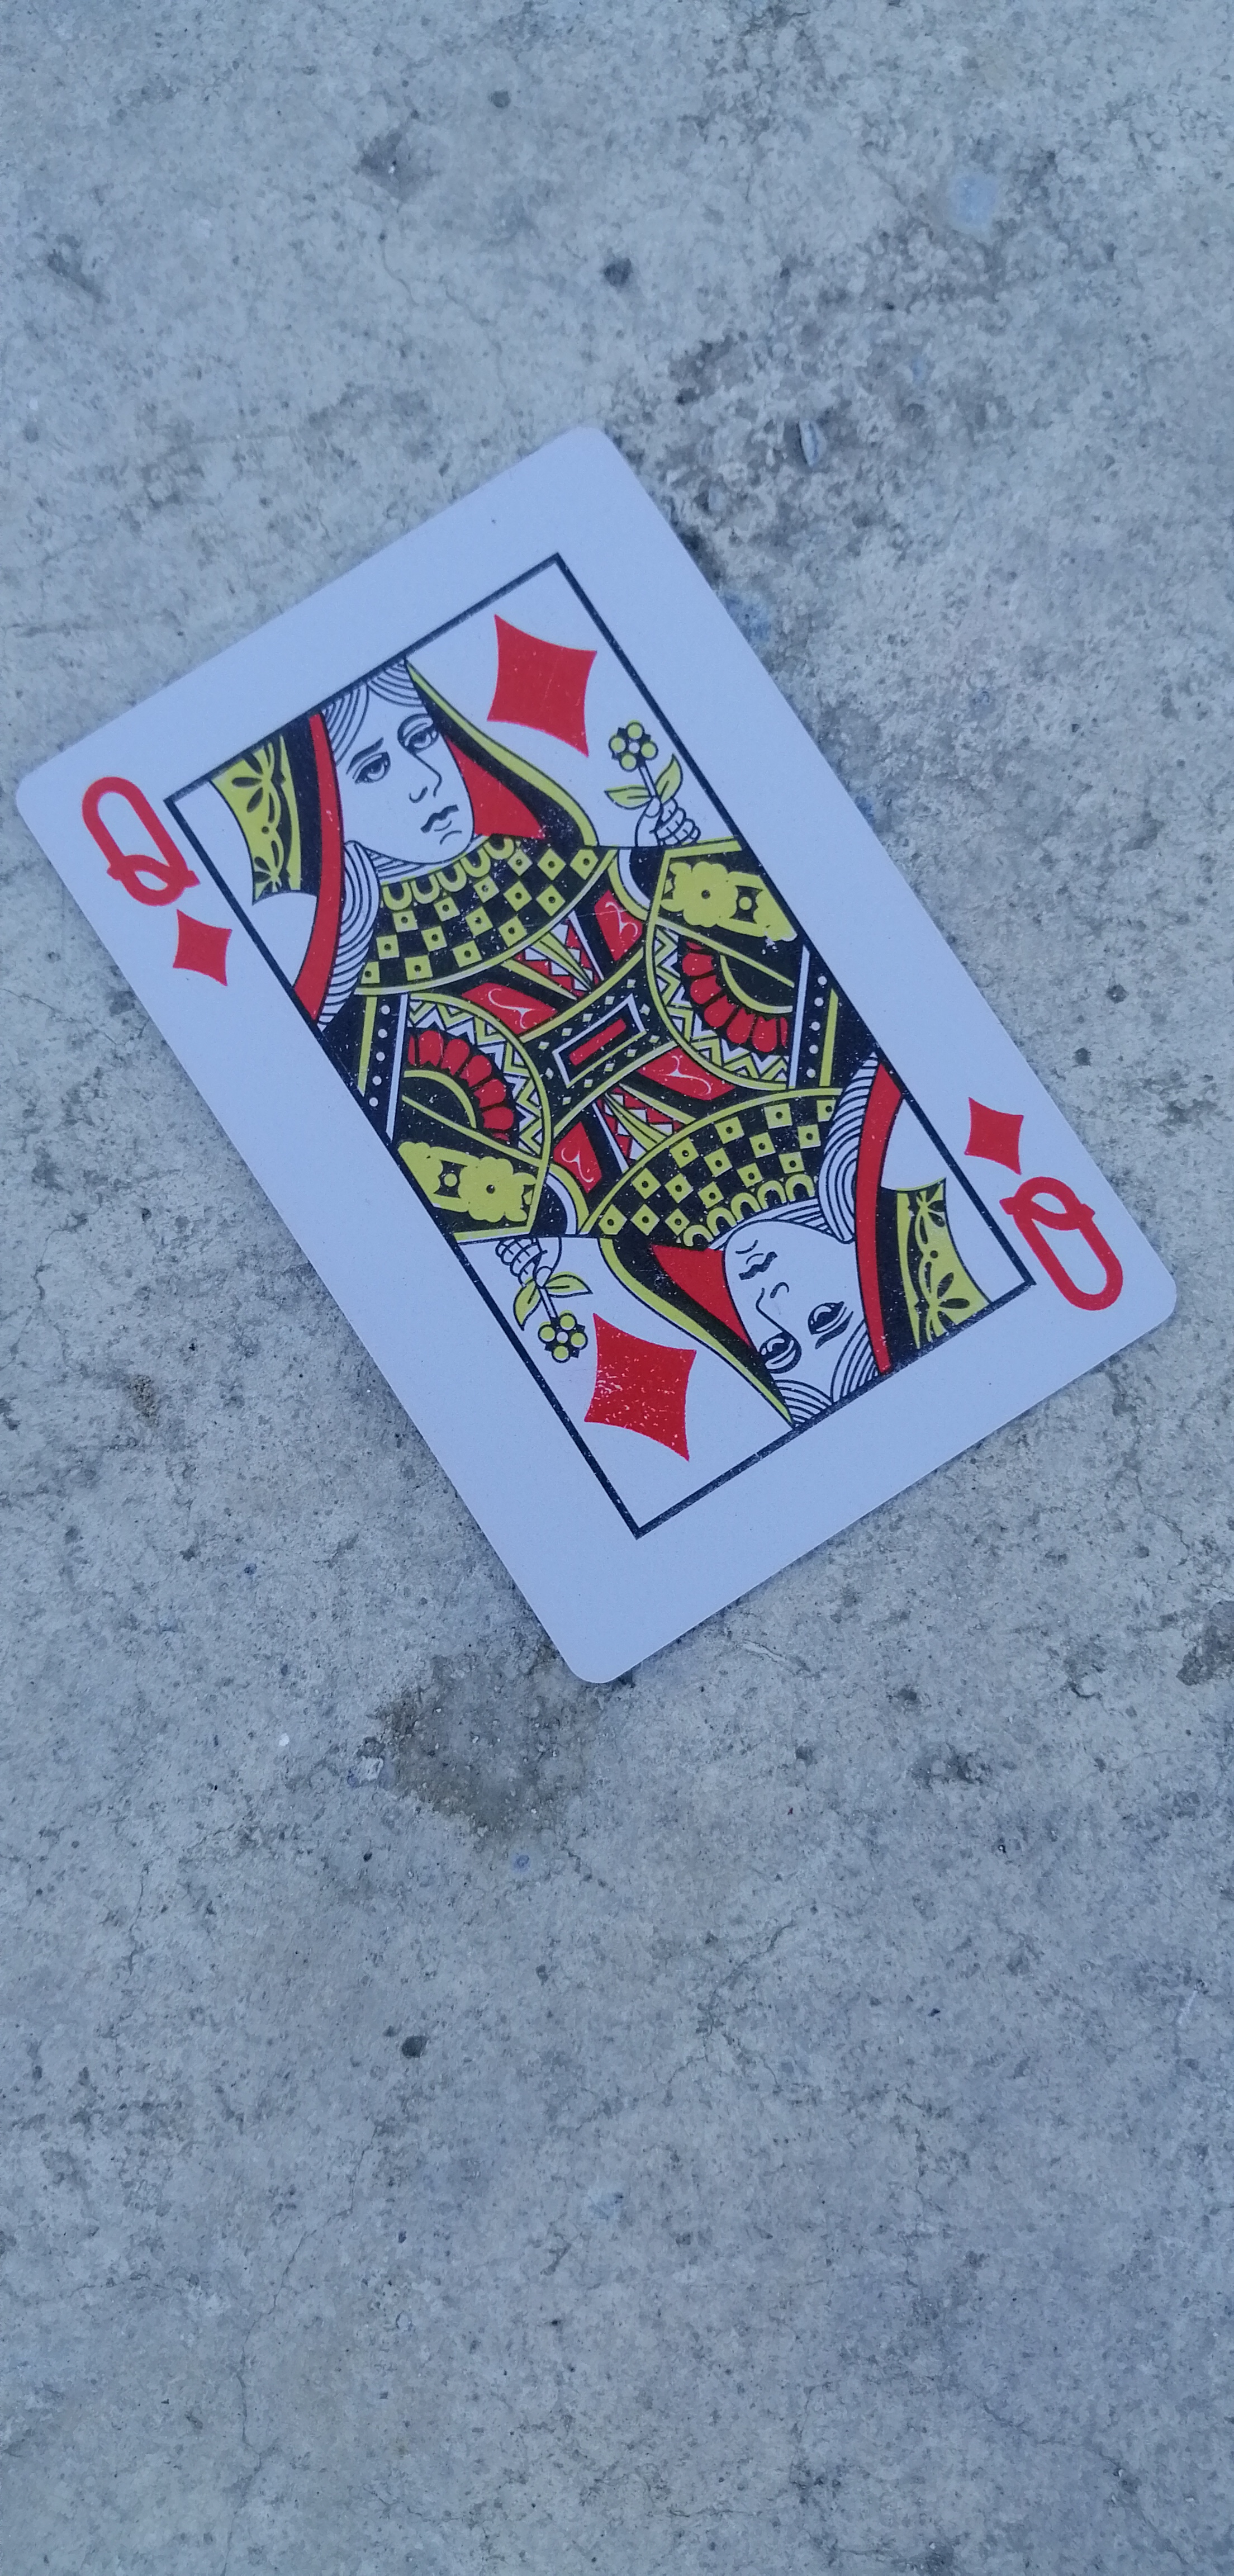queen: (8, 412, 1178, 1681)
